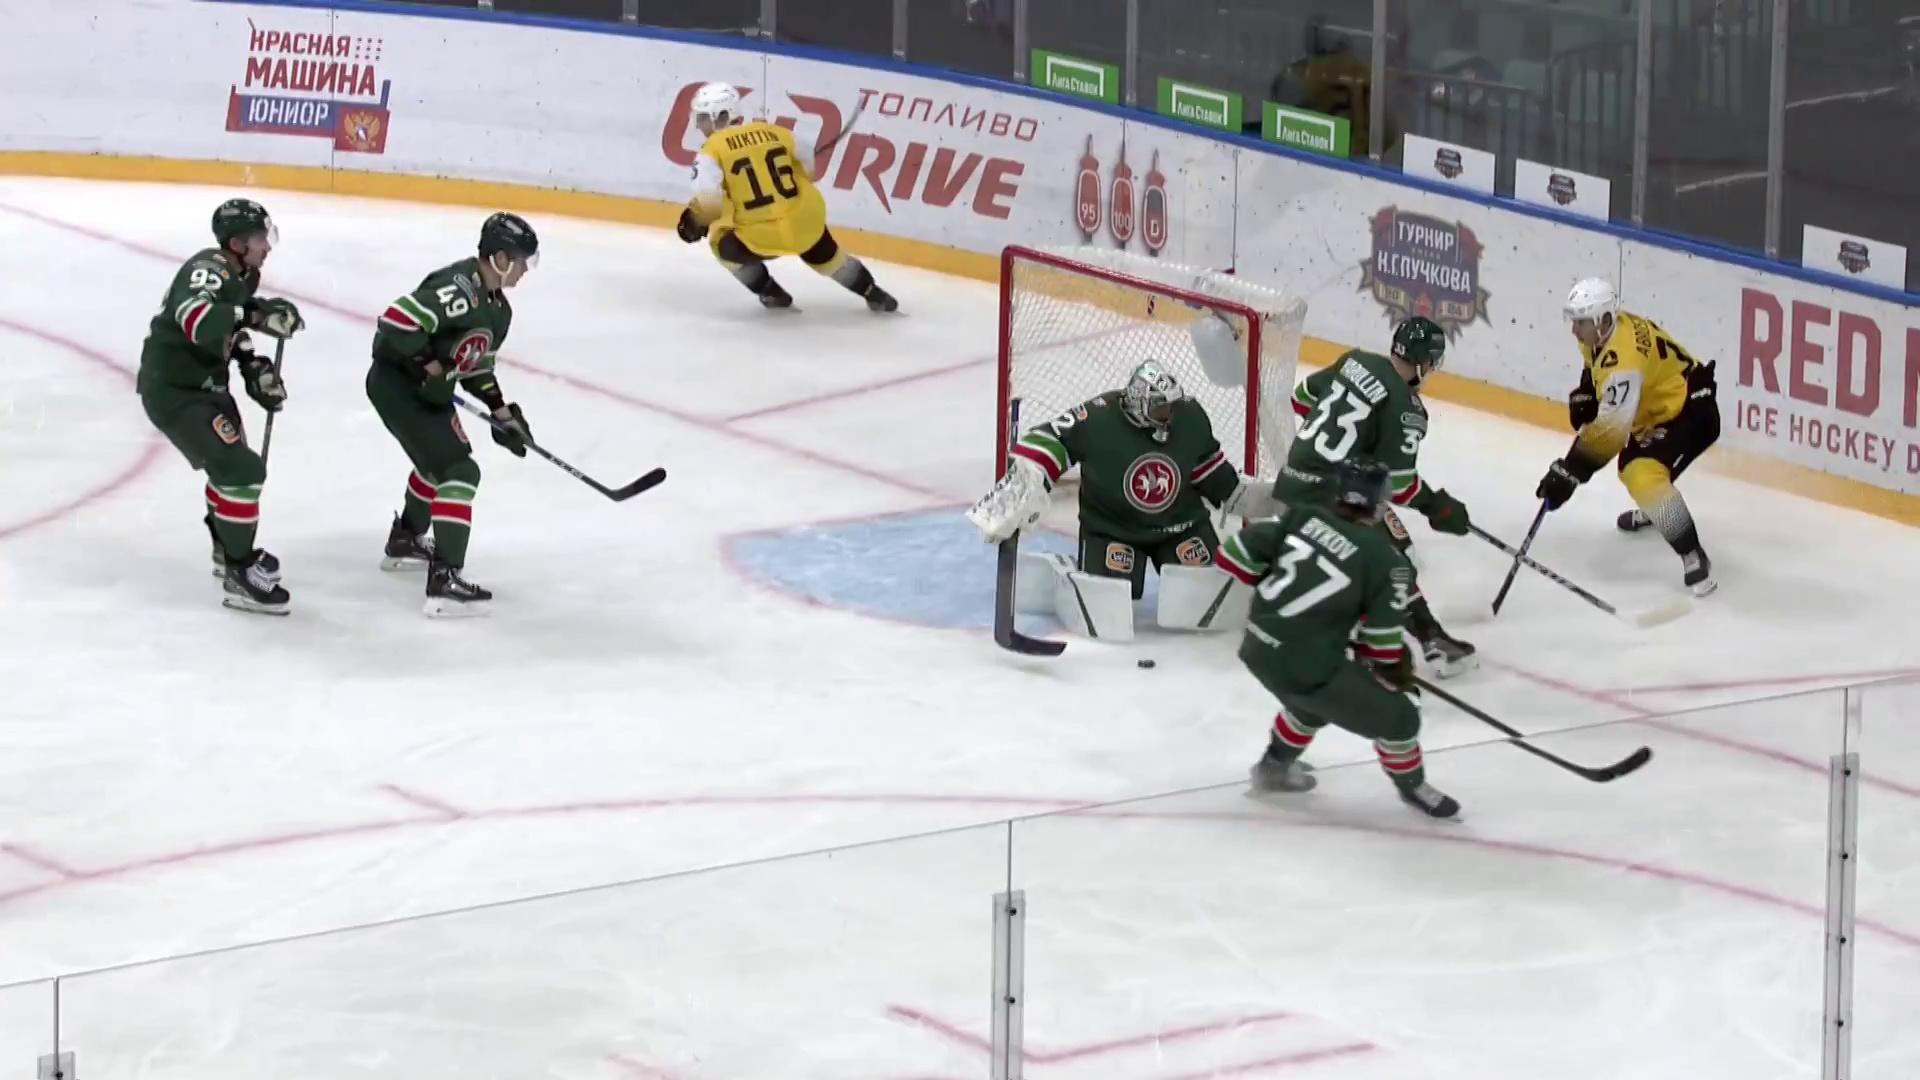ball: (1138, 655, 1153, 667)
